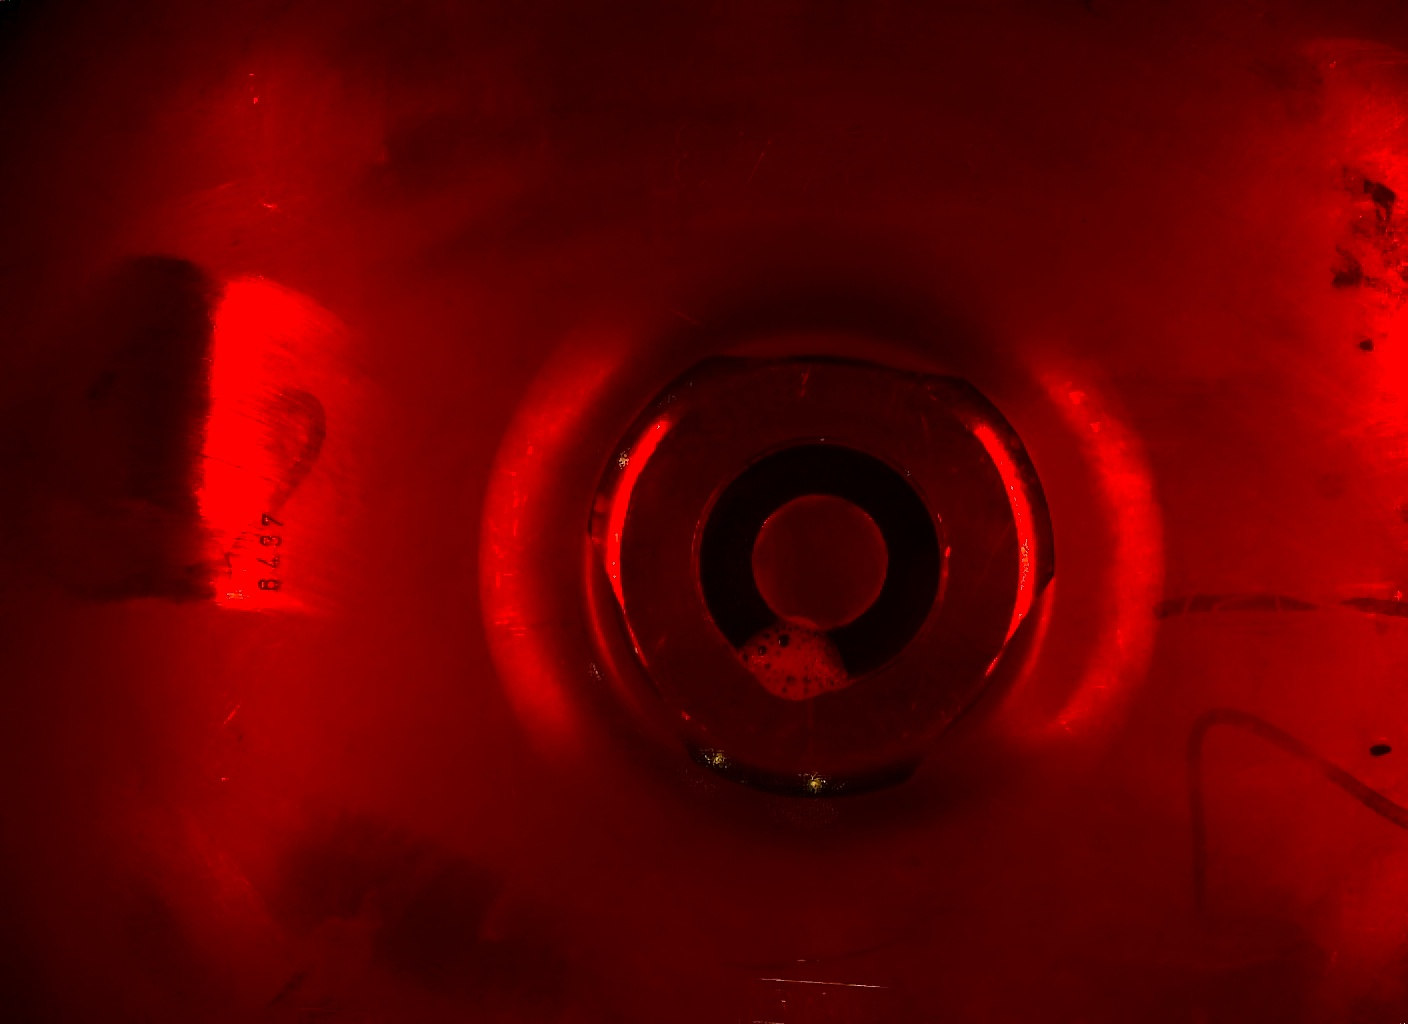pena: (709, 607, 868, 709)
